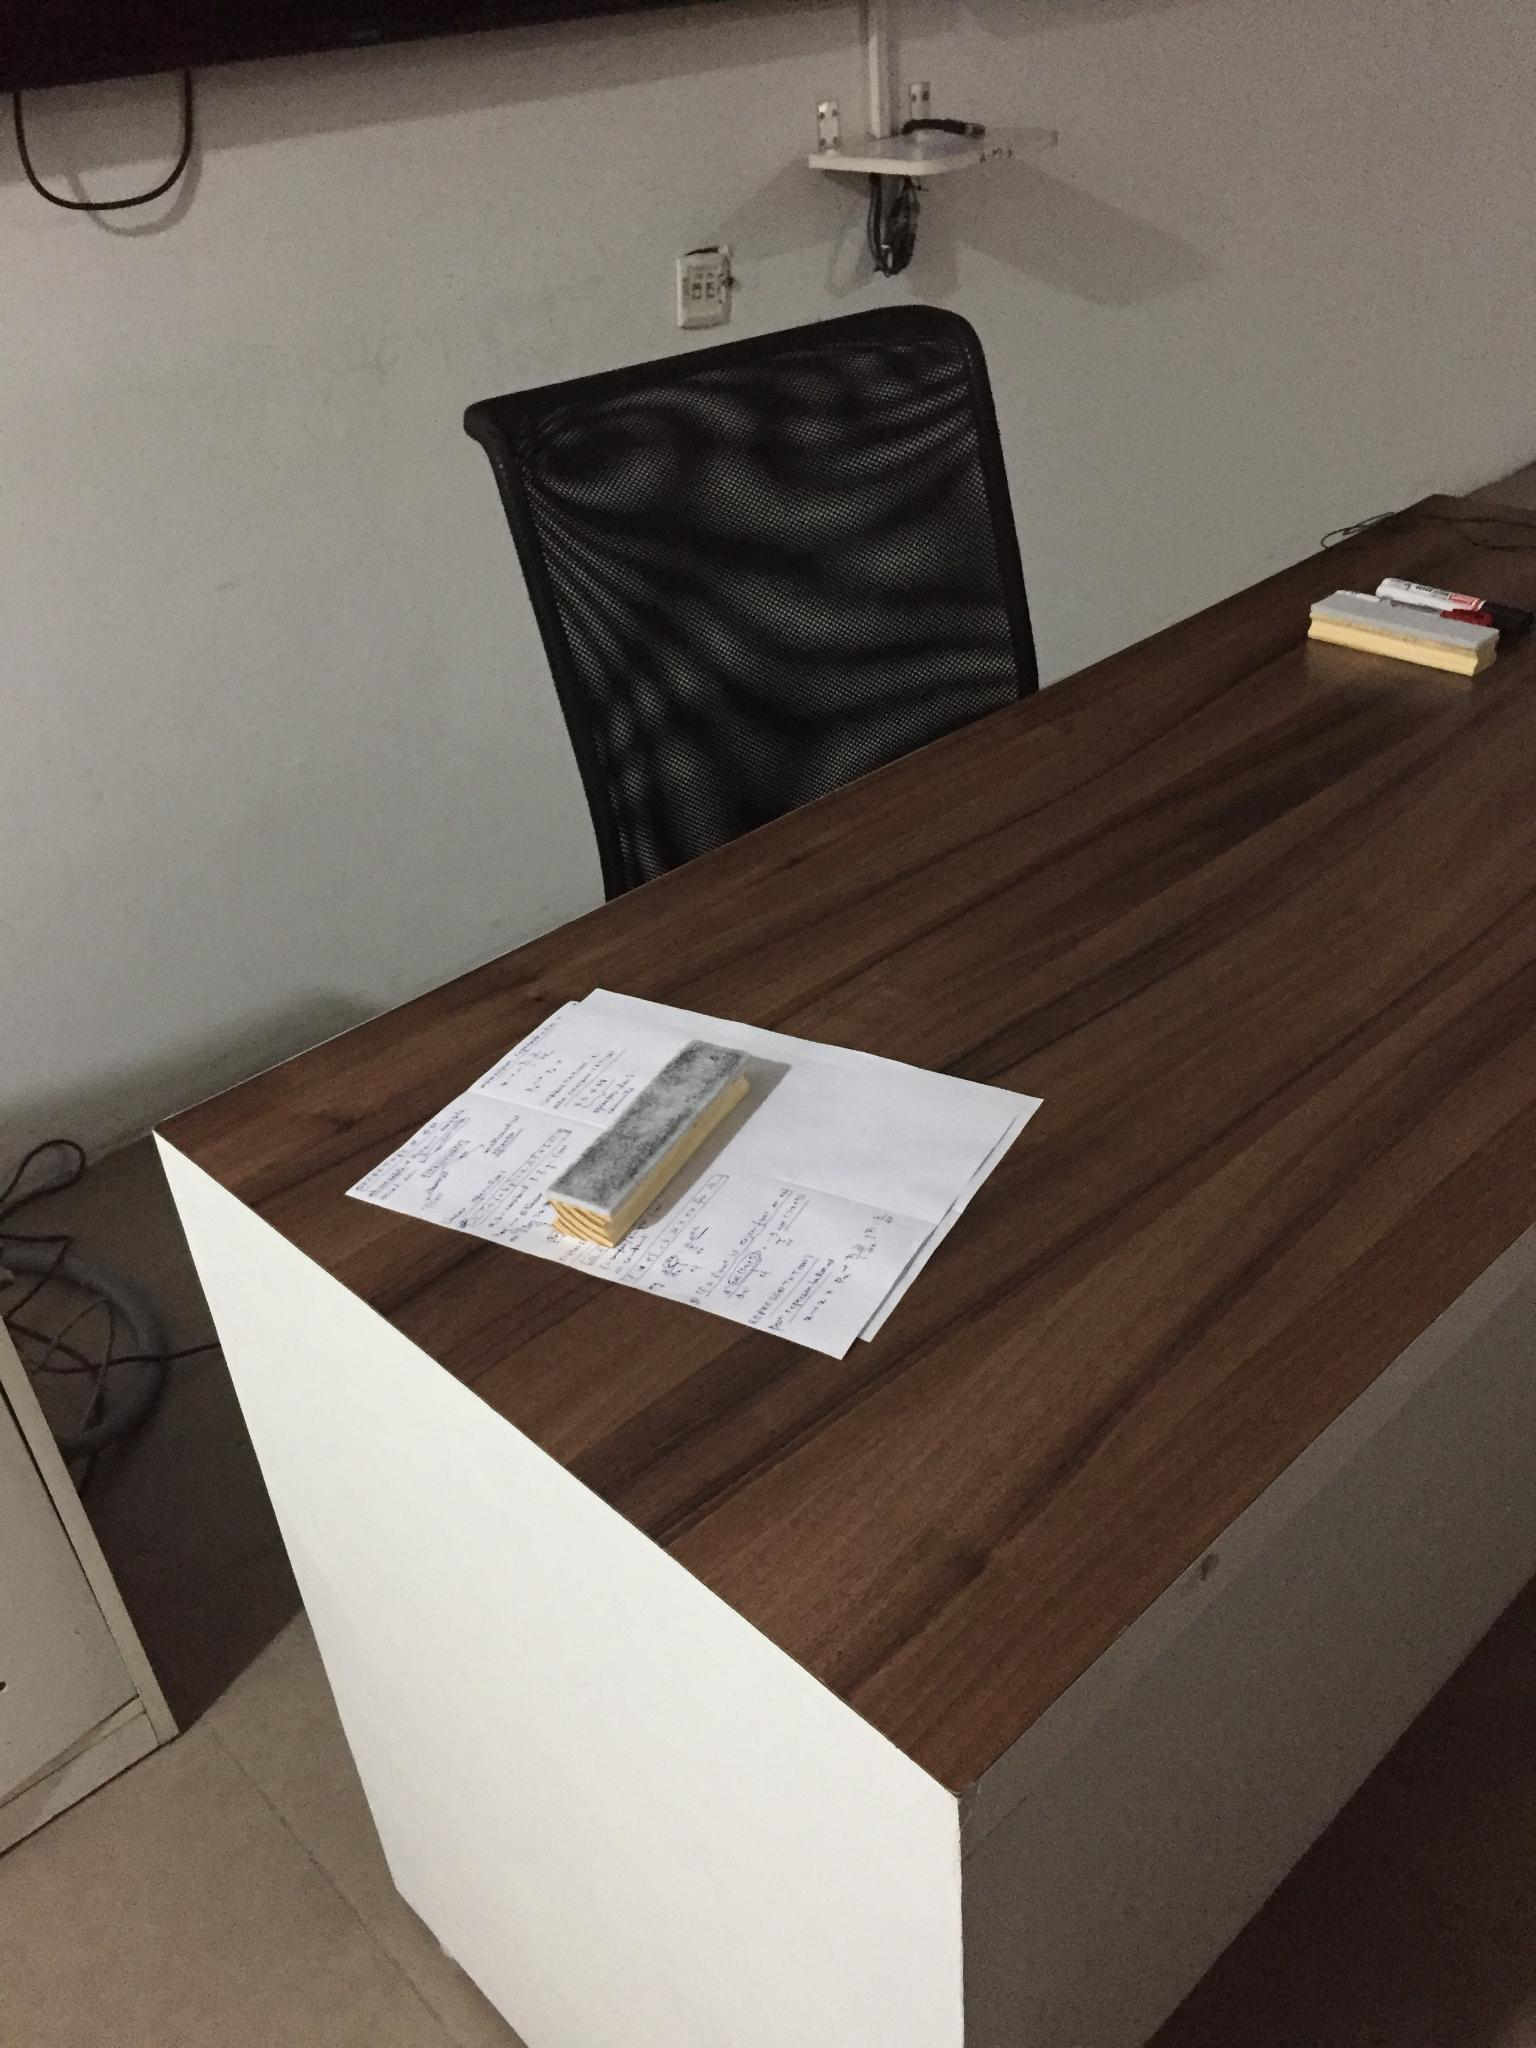chair: (460, 303, 1039, 903)
